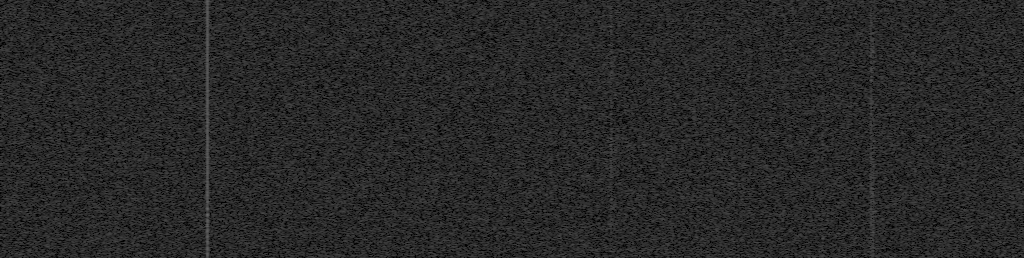wv_am: (205, 0, 210, 258), (869, 66, 874, 258), (869, 0, 873, 59), (869, 60, 874, 65)
wv_lsb: (820, 233, 825, 254), (821, 91, 825, 113), (820, 139, 825, 154), (820, 155, 825, 166), (820, 127, 825, 138), (821, 216, 824, 232), (821, 200, 824, 209), (820, 167, 825, 172), (821, 81, 824, 88), (821, 114, 824, 119), (820, 255, 825, 258), (821, 191, 824, 196), (821, 123, 825, 126), (821, 43, 824, 47), (821, 182, 824, 186), (821, 71, 824, 74), (821, 34, 824, 37), (821, 212, 824, 215), (821, 187, 824, 190)
wv_usb: (609, 2, 614, 258), (871, 137, 876, 258), (871, 26, 876, 73), (871, 104, 875, 131), (871, 75, 875, 86), (871, 94, 875, 103), (871, 87, 875, 93), (871, 3, 875, 9), (871, 132, 875, 136), (872, 17, 875, 21), (871, 11, 875, 14)
